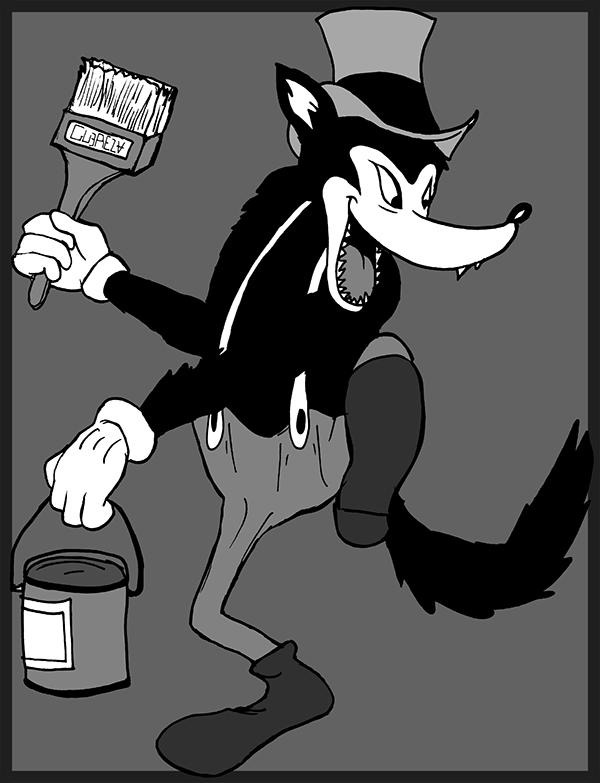dog: (23, 22, 563, 782)
